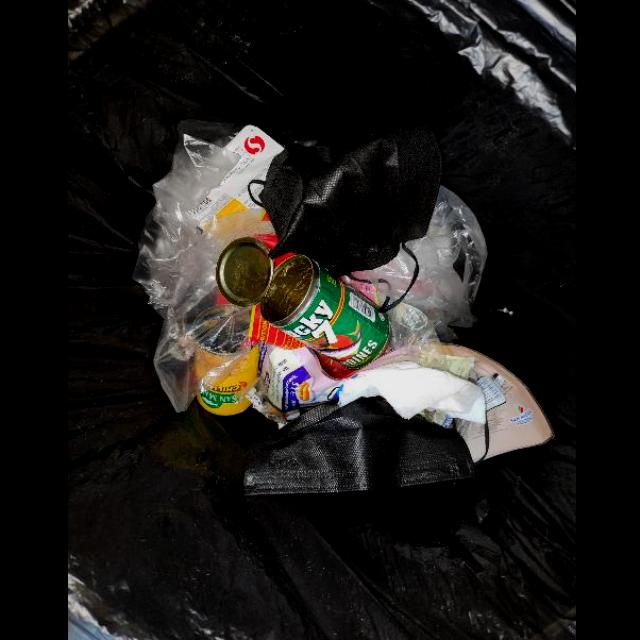bao_bi_thuc_pham: (361, 344, 555, 465), (187, 125, 285, 228)
giay: (338, 361, 487, 425)
khau_trang: (247, 120, 443, 310), (243, 396, 478, 499)
nhom: (215, 237, 392, 370), (194, 343, 261, 418)
tui_ni_long: (132, 136, 276, 415), (341, 185, 488, 348)
